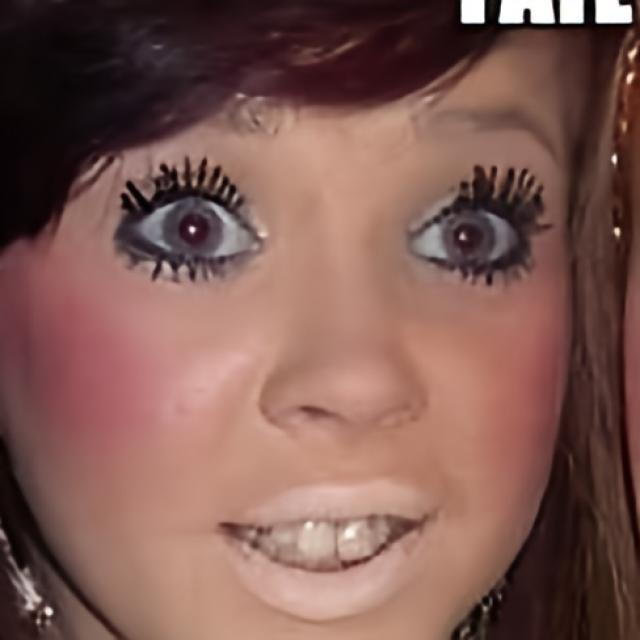surprise: (0, 24, 594, 640)
